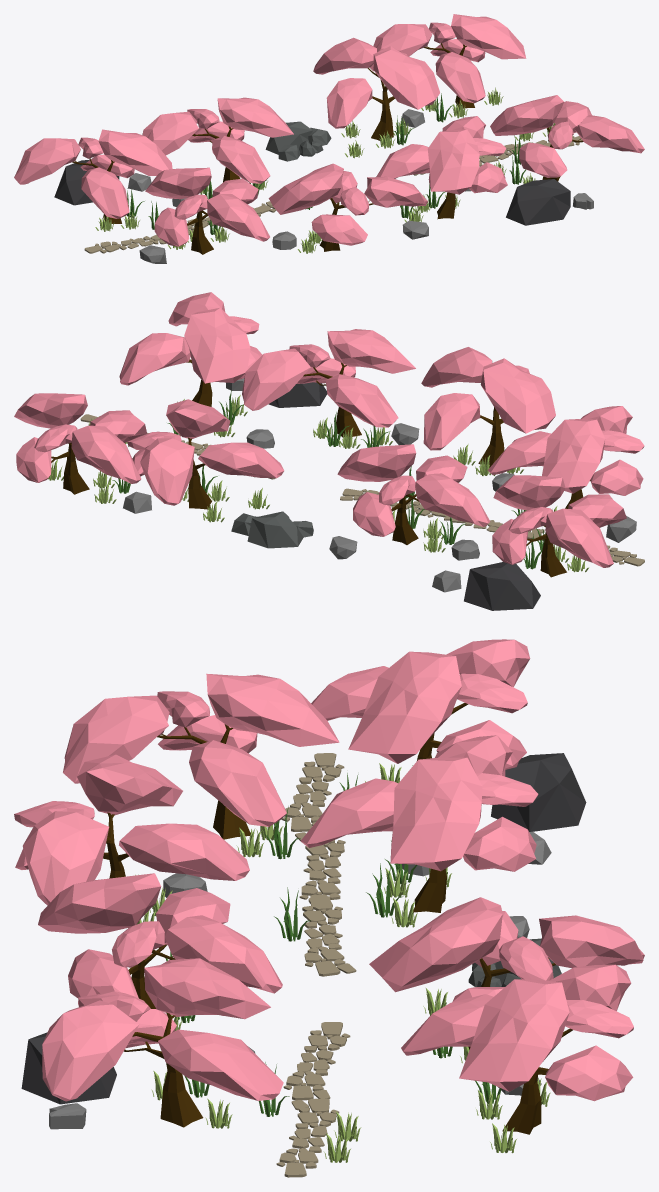
File: cherry-blossom-premade-garden.glb
3 renders of one model, top to bottom at view 1: azimuth 30°, elevation 25°; view 2: azimuth 150°, elevation 25°; view 3: azimuth 270°, elevation 25°, orthographic. The views are drawn at different scales.
Visible parts, largest first — view 1: Leaves.017, Leaves.012, Sketchup.001, Leaves.022, Leaves.002, Leaves.037, Leaves.027, Leaves.007, Leaves.035, Leaves.030, Leaves.028, Leaves.003 (+36 smaller); view 2: Leaves.007, Leaves.022, Leaves.032, Sketchup, Leaves.010, Leaves.015, Leaves.017, Leaves.035, Leaves, Leaves.025, Leaves.018, Leaves.008 (+39 smaller); view 3: Leaves.027, Leaves.002, Leaves.037, Leaves.012, Leaves.005, Leaves.032, Leaves.020, Leaves.008, Leaves.030, Leaves.017, Leaves.007, Leaves.023 (+38 smaller).
Boxes of the visible parts, x1,y1,x2,y2 form: Leaves.017: (427,129,479,194); Leaves.012: (373,46,439,109); Sketchup.001: (506,179,570,225); Leaves.022: (268,163,343,214); Leaves.002: (451,14,526,59); Leaves.037: (98,129,172,175); Leaves.027: (217,97,293,137); Leaves.007: (490,95,564,135); Leaves.035: (14,138,80,184); Leaves.030: (207,194,269,241); Leaves.028: (212,135,270,183); Leaves.003: (435,52,485,103); Leaves.007: (184,307,250,383); Leaves.022: (480,358,555,433); Leaves.032: (542,419,605,493); Sketchup: (464,562,540,610); Leaves.010: (140,438,194,505); Leaves.015: (242,348,310,410); Leaves.017: (327,329,415,373); Leaves.035: (545,508,613,567); Leaves: (71,425,141,483); Leaves.025: (415,473,490,527); Leaves.018: (325,374,398,427); Leaves.008: (119,333,190,385); Leaves.027: (390,757,482,871); Leaves.002: (459,979,569,1091); Leaves.037: (348,651,461,763); Leaves.012: (369,897,502,992); Leaves.005: (42,1000,139,1101); Leaves.032: (206,673,339,746); Leaves.020: (22,811,109,905); Leaves.008: (158,1029,283,1100); Leaves.030: (63,695,169,783); Leaves.017: (38,873,161,933); Leaves.007: (144,958,270,1019); Leaves.023: (119,823,249,880).
Size of the model in its own units: 35.83 by 5.87 by 21.68.
